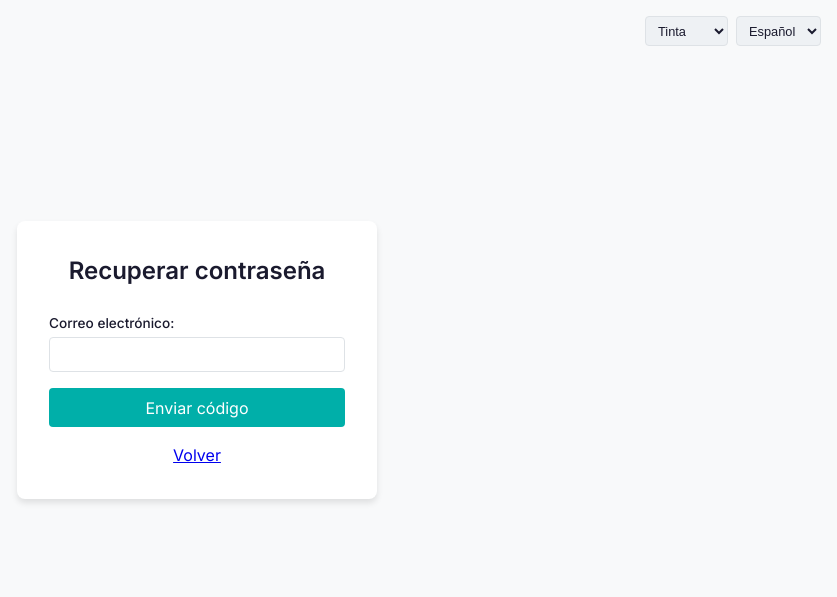
Test: ForgotPasswordPage › displays the generated token and continue link on success
Type "test@test.com" into the field labelled "Correo electrónico:". click: coordinates (197, 355)
box: x1=49 y1=337 x2=345 y2=372
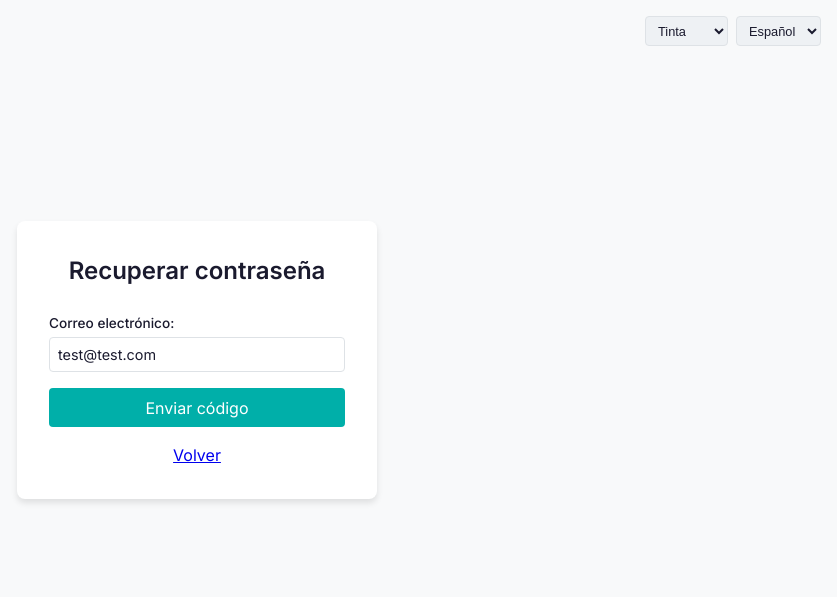
Click the button "Enviar código". click: coordinates (197, 408)
box: x1=49 y1=388 x2=345 y2=427
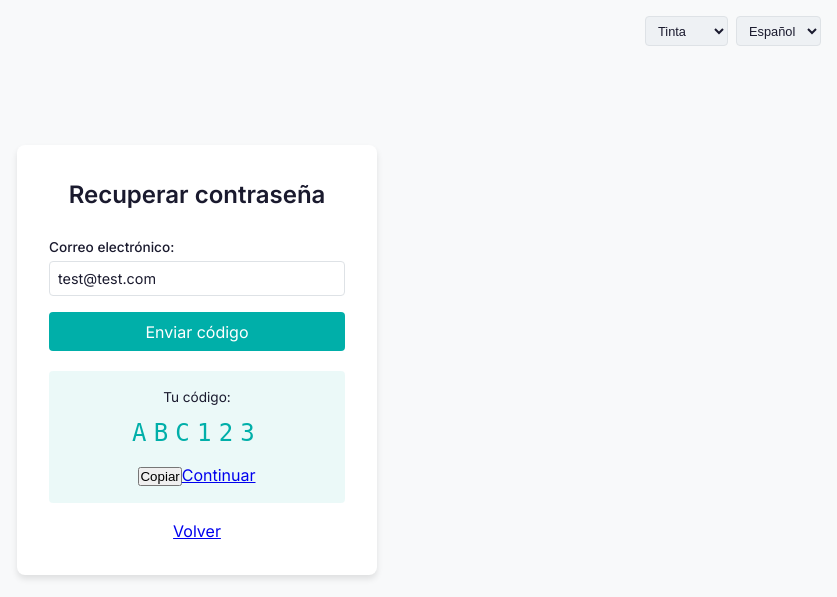
Now the text "ABC123" is shown, box x1=132 y1=420 x2=262 y2=448
